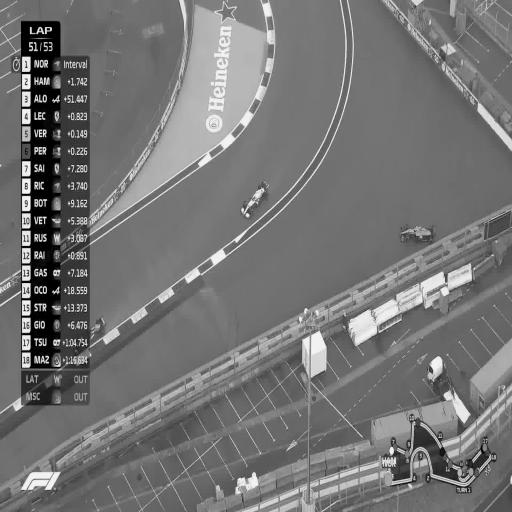f1_car: (241, 180, 269, 218), (400, 225, 435, 242), (89, 317, 105, 342)
